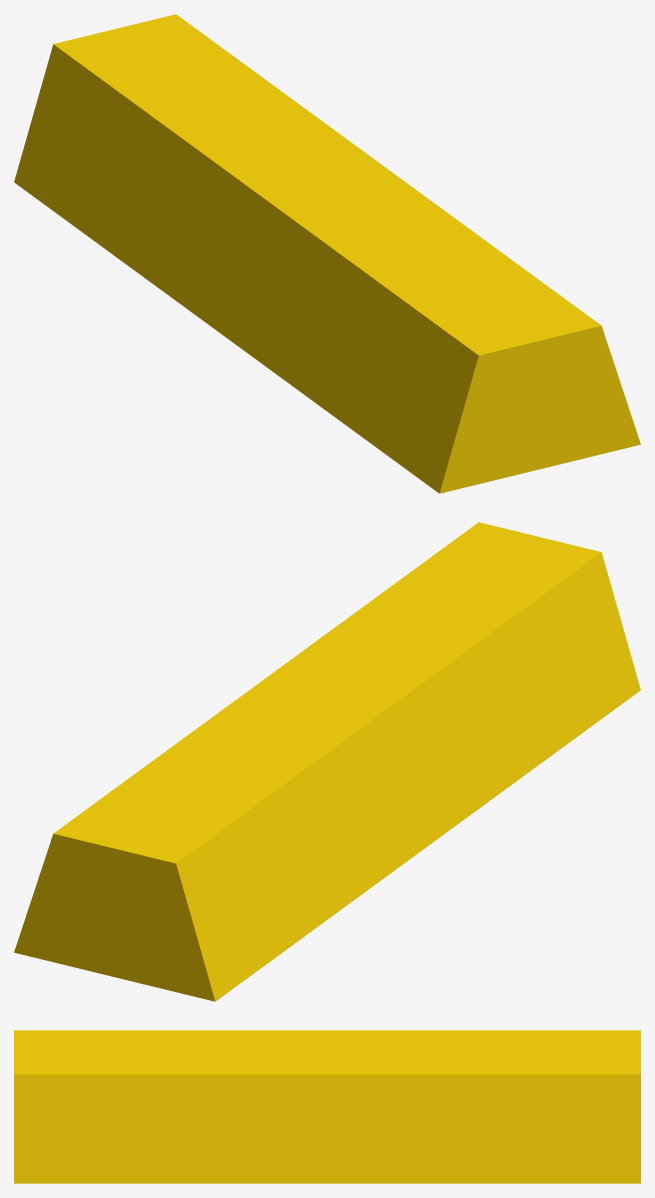
Rendered from GoldIngot.fbx.
3 renders of one model, top to bottom at view 1: azimuth 30°, elevation 25°; view 2: azimuth 150°, elevation 25°; view 3: azimuth 270°, elevation 25°, orthographic. The views are drawn at different scales.
Visible parts, largest first — view 1: GoldIngot; view 2: GoldIngot; view 3: GoldIngot.
Part boxes in pixels (box(x1,y1,x2,y2)): GoldIngot: box(14, 14, 640, 493); GoldIngot: box(14, 522, 640, 1001); GoldIngot: box(14, 1030, 640, 1183).
Size of the model in its own units: 8.2 by 5 by 30.
